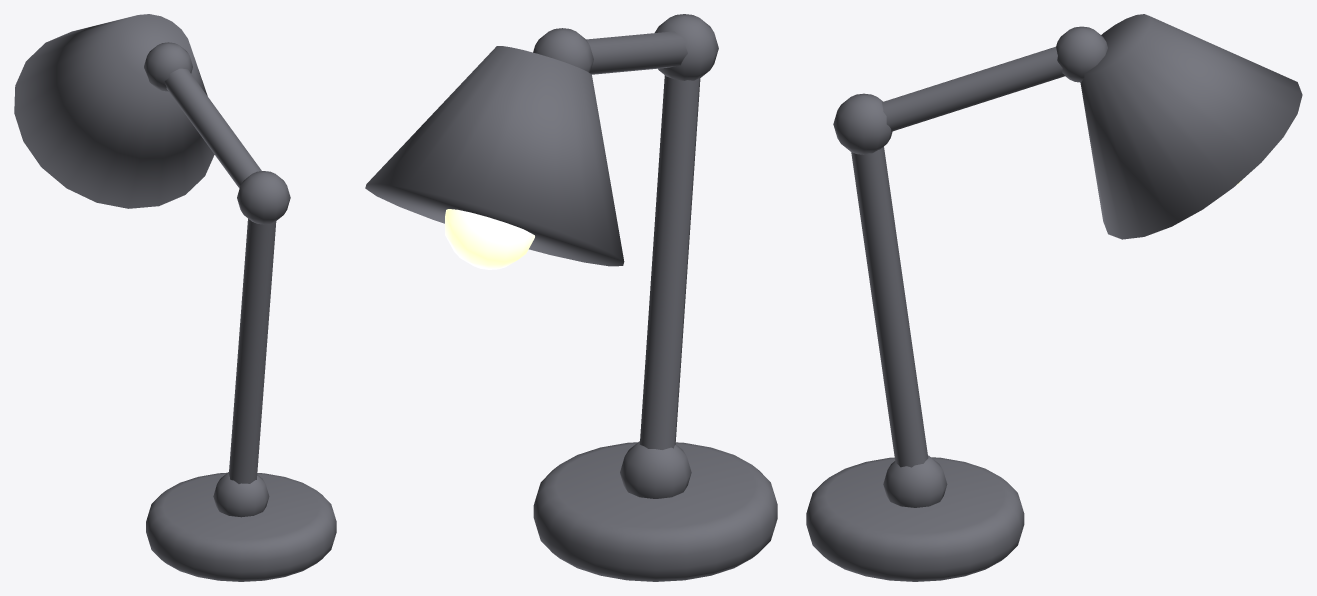
Rendered from lamp_desk.glb.
The picture shows the model from 3 angles, left to right: view 1: azimuth 30°, elevation 25°; view 2: azimuth 150°, elevation 25°; view 3: azimuth 270°, elevation 25°; orthographic projection. The views are drawn at different scales.
Parts seen in each view (by area): view 1: DeskLamp; view 2: DeskLamp; view 3: DeskLamp.
Part boxes in pixels (left/top/right/bottom): DeskLamp: left=14, top=14, right=336, bottom=581; DeskLamp: left=365, top=14, right=777, bottom=581; DeskLamp: left=806, top=14, right=1302, bottom=581.
Size of the model in its own units: 0.19 by 0.4492 by 0.3872.
